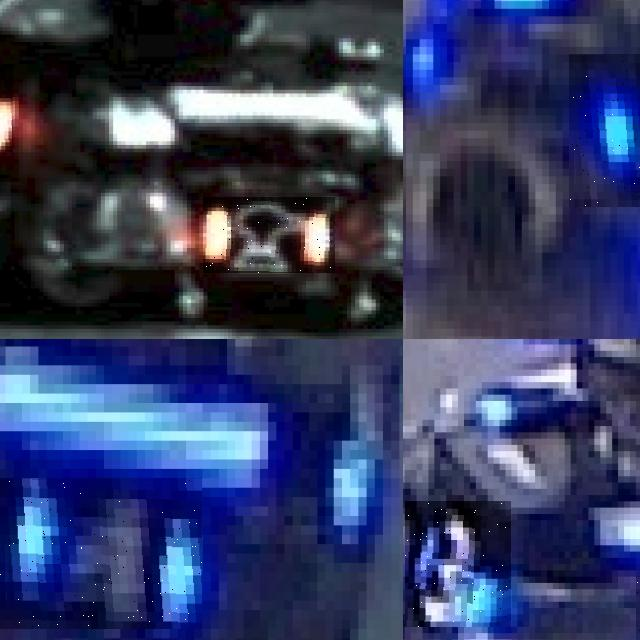B3: (405, 501, 511, 627)
B4: (0, 478, 202, 628), (569, 54, 640, 206)
Rs: (203, 197, 335, 273)
